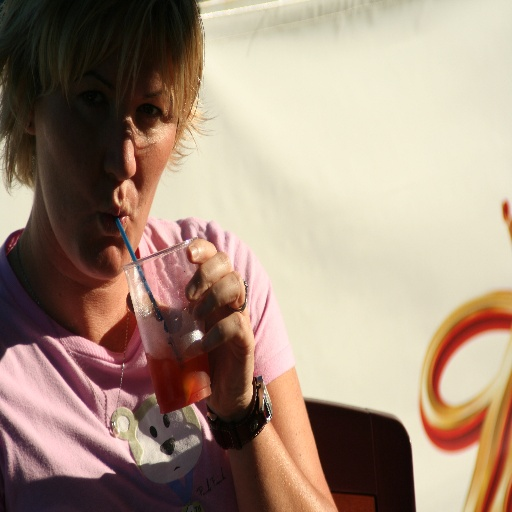hand: (179, 238, 257, 424)
